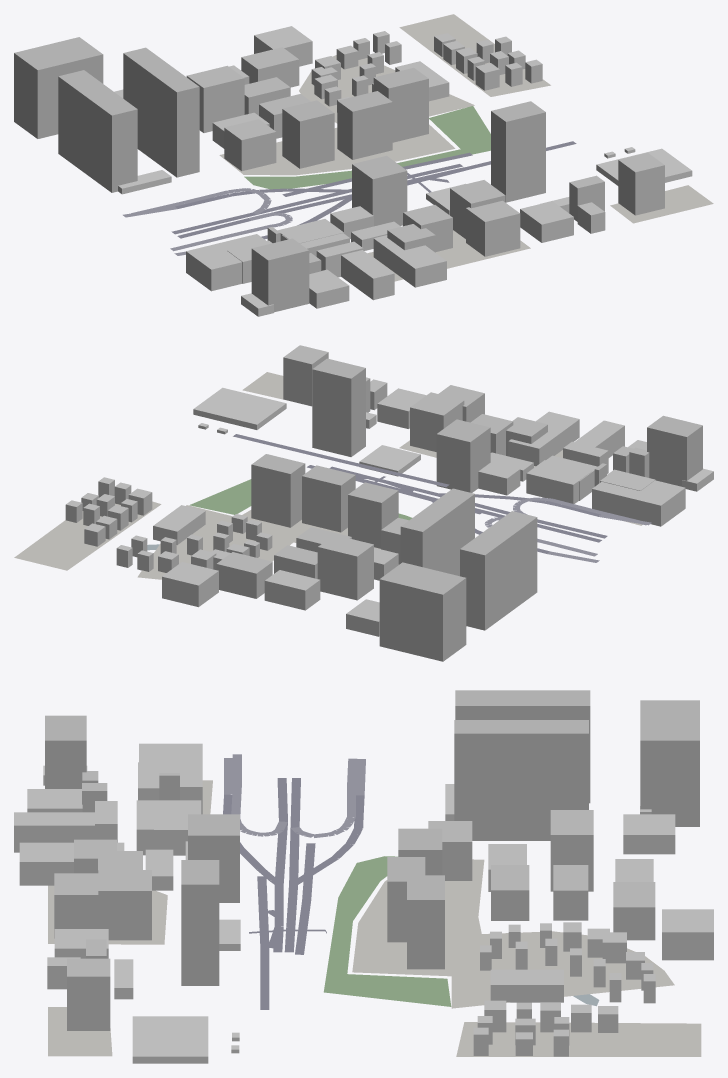
Rendered from 120_92_mid.glb.
3 renders of one model, top to bottom at view 1: azimuth 30°, elevation 25°; view 2: azimuth 150°, elevation 25°; view 3: azimuth 270°, elevation 25°, orthographic. The views are drawn at different scales.
Bounding box in the file's own units: 531 × 90.74 × 536.
